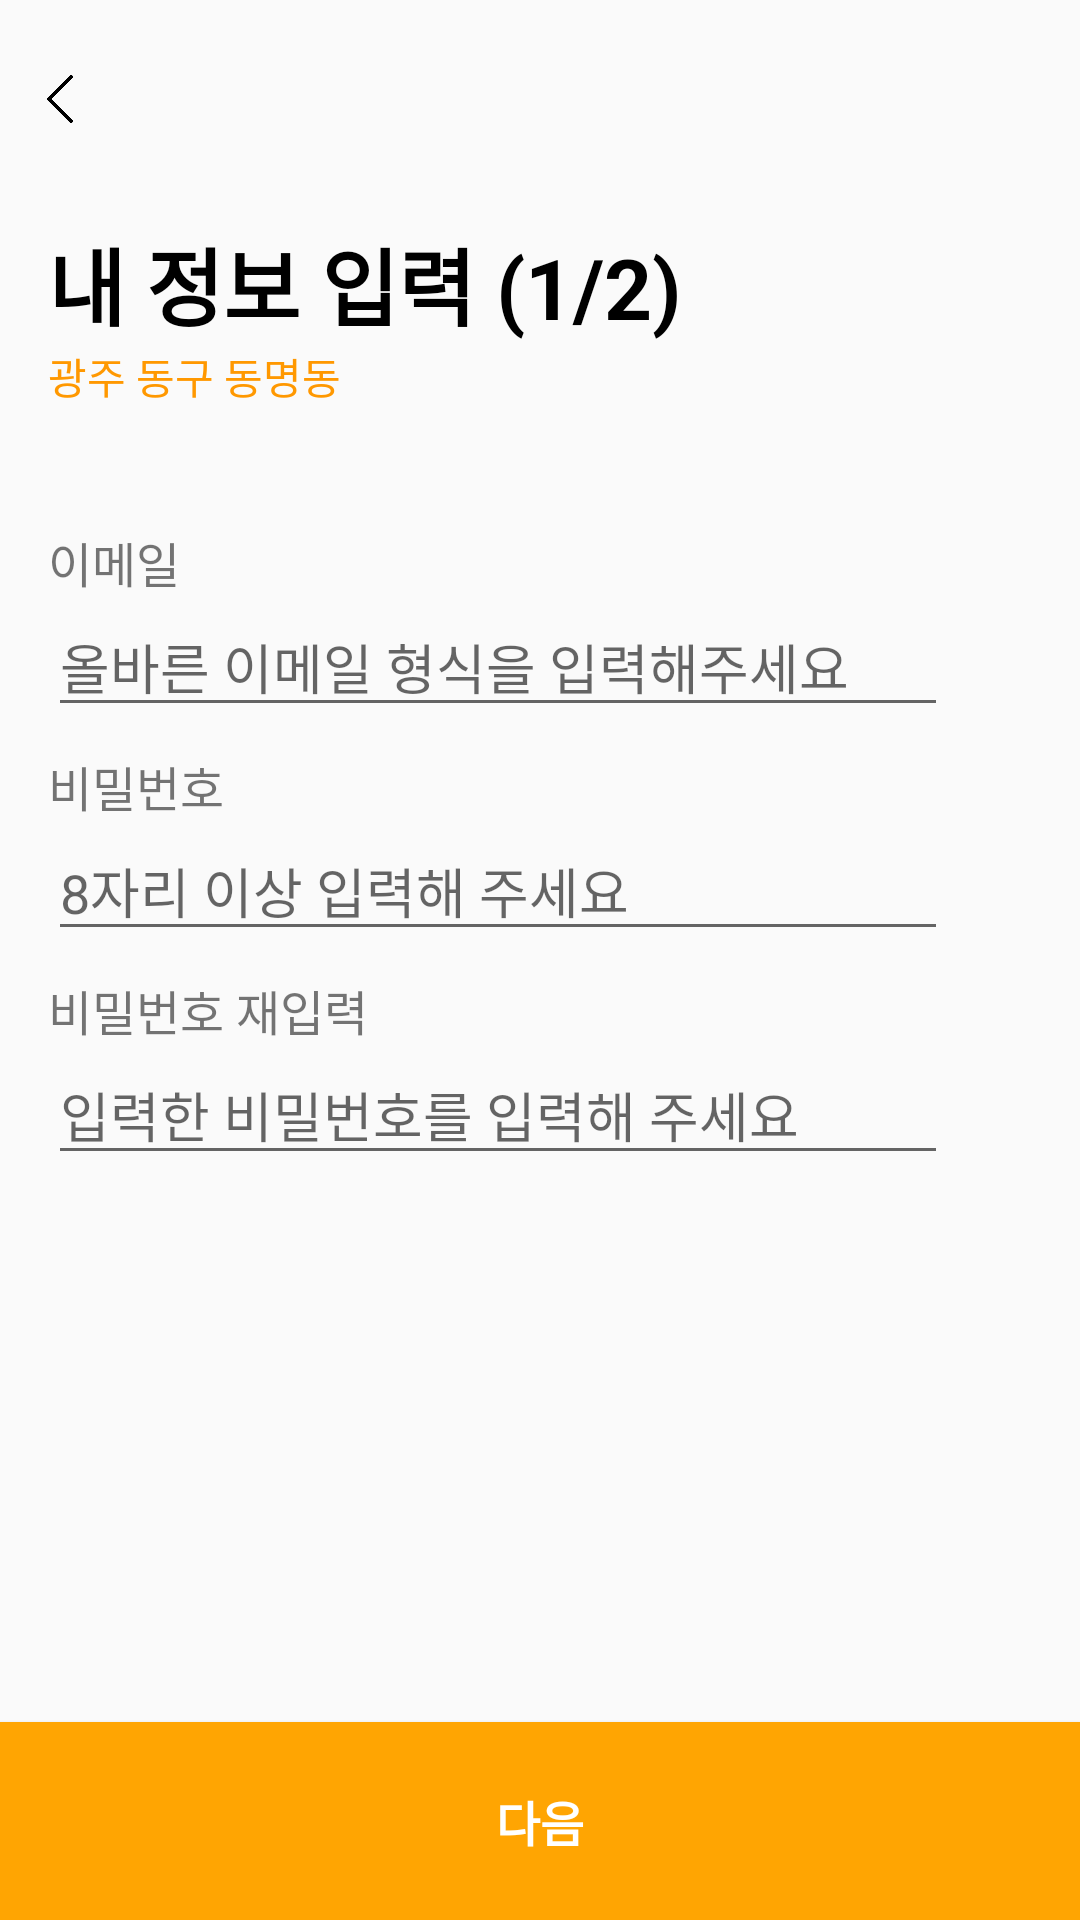

Icon bounding boxes for this 1080x1920 phone screenshot, format [x1,y1,x2,y2]:
back: [47,75,73,123]
